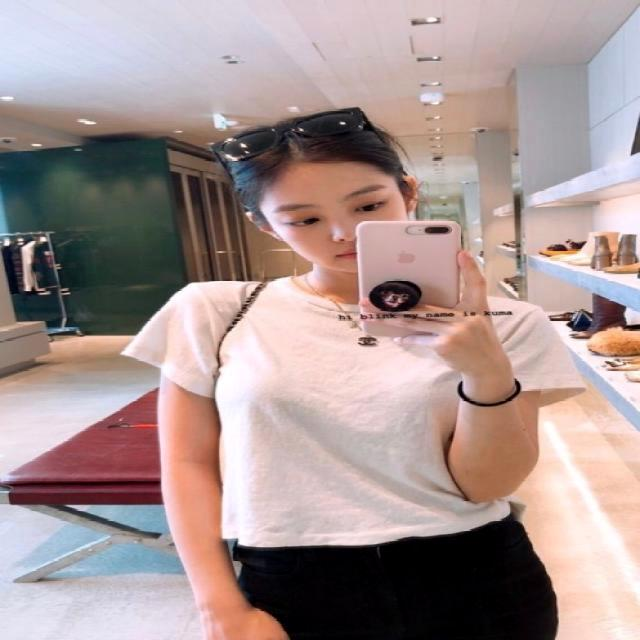phone: (355, 217, 470, 342)
